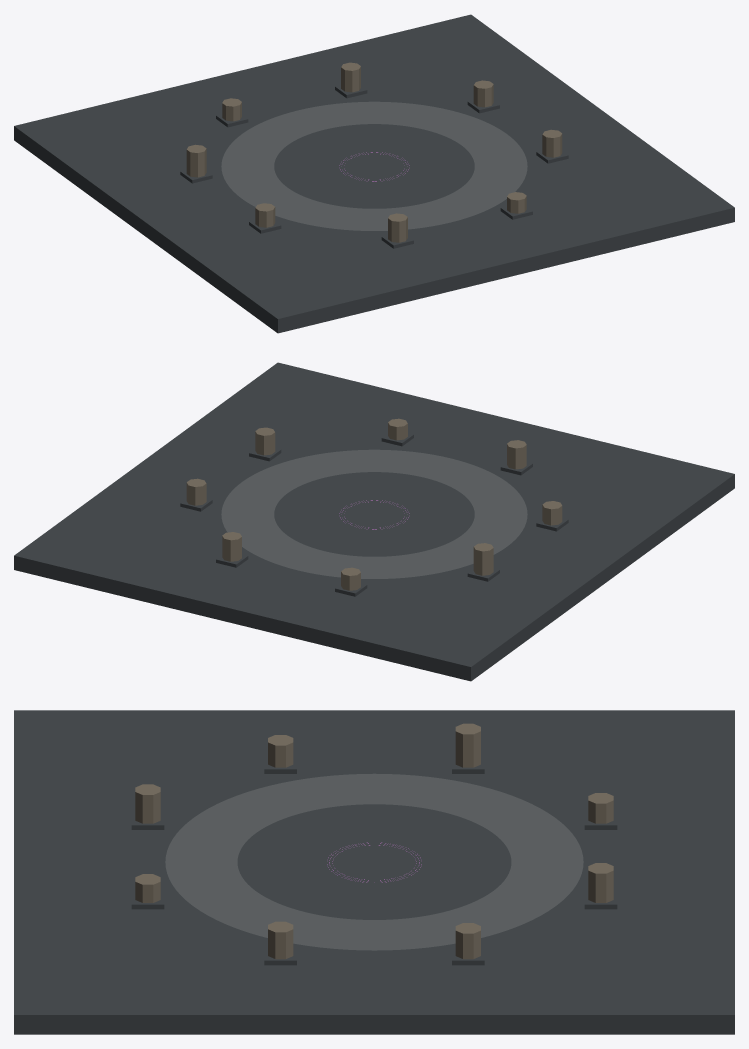
The model's file is hydra_temple.glb.
3 renders of one model, top to bottom at view 1: azimuth 30°, elevation 25°; view 2: azimuth 150°, elevation 25°; view 3: azimuth 270°, elevation 25°, orthographic. The views are drawn at different scales.
Parts seen in each view (by area): view 1: Arena | basalt floor, Ring | broad walkable path, Cover | broken column 4, Cover | broken column 2, Cover | broken column 6, Cover | broken column 8, Cover | broken column 1; view 2: Arena | basalt floor, Ring | broad walkable path, Cover | broken column 4, Cover | broken column 2, Cover | broken column 6, Cover | broken column 8, Cover | broken column 1; view 3: Arena | basalt floor, Ring | broad walkable path, Cover | broken column 4, Cover | broken column 2, Cover | broken column 6, Cover | broken column 8, Cover | broken column 1, Cover | broken column 5, Cover | broken column 3, Cover | broken column 7.
Part boxes in pixels (left/top/right/bottom): Arena | basalt floor: left=14, top=14, right=734, bottom=333; Ring | broad walkable path: left=221, top=101, right=527, bottom=230; Cover | broken column 4: left=186, top=144, right=206, bottom=177; Cover | broken column 2: left=341, top=62, right=360, bottom=92; Cover | broken column 6: left=388, top=213, right=407, bottom=242; Cover | broken column 8: left=542, top=129, right=562, bottom=157; Cover | broken column 1: left=473, top=80, right=493, bottom=107; Arena | basalt floor: left=14, top=362, right=734, bottom=681; Ring | broad walkable path: left=221, top=449, right=527, bottom=578; Cover | broken column 4: left=473, top=543, right=493, bottom=575; Cover | broken column 2: left=222, top=532, right=241, bottom=561; Cover | broken column 6: left=507, top=440, right=526, bottom=469; Cover | broken column 8: left=255, top=427, right=275, bottom=455; Cover | broken column 1: left=186, top=478, right=206, bottom=505; Arena | basalt floor: left=14, top=710, right=734, bottom=1034; Ring | broad walkable path: left=165, top=773, right=583, bottom=950; Cover | broken column 4: left=455, top=723, right=480, bottom=767; Cover | broken column 2: left=588, top=863, right=613, bottom=902; Cover | broken column 6: left=135, top=784, right=160, bottom=823; Cover | broken column 8: left=268, top=921, right=293, bottom=959; Cover | broken column 1: left=455, top=923, right=480, bottom=959; Cover | broken column 5: left=268, top=735, right=293, bottom=767; Cover | broken column 3: left=588, top=793, right=613, bottom=823; Cover | broken column 7: left=135, top=874, right=160, bottom=902.
Bounding box in the file's own units: 100 × 8.8 × 100.
